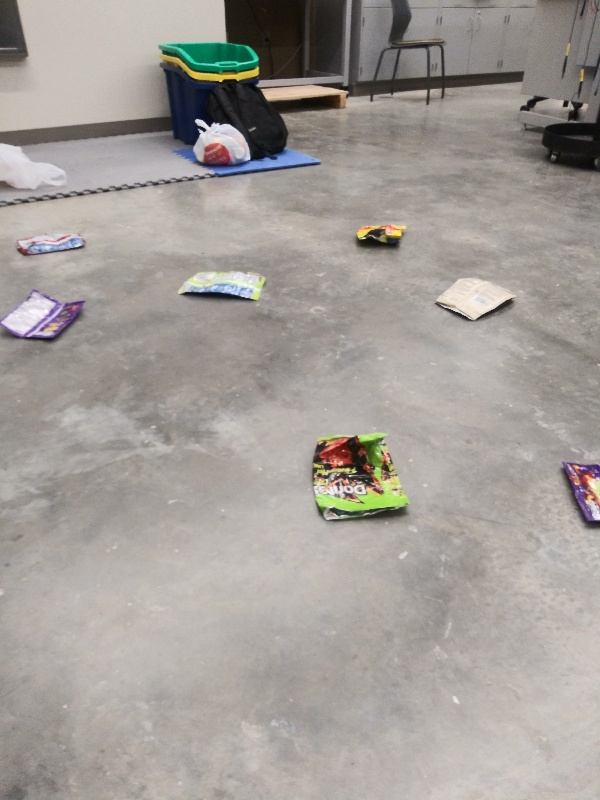bag: (306, 430, 415, 522), (1, 289, 88, 346), (435, 272, 522, 323), (556, 454, 600, 535), (176, 270, 271, 306), (11, 228, 90, 258), (352, 221, 412, 245)
